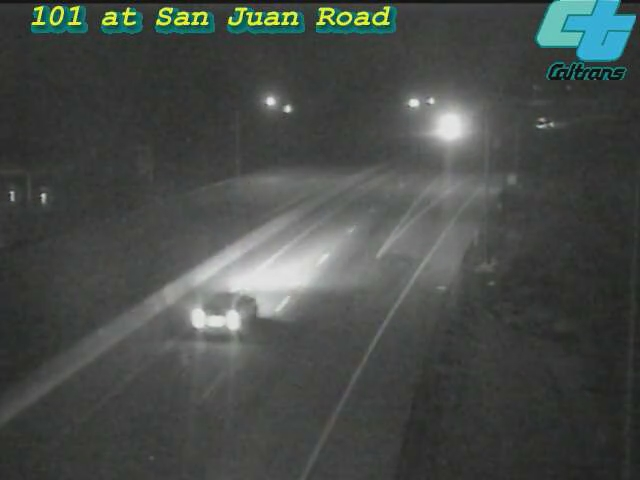vehicle: (180, 264, 260, 344), (423, 102, 473, 152), (522, 97, 572, 147)
